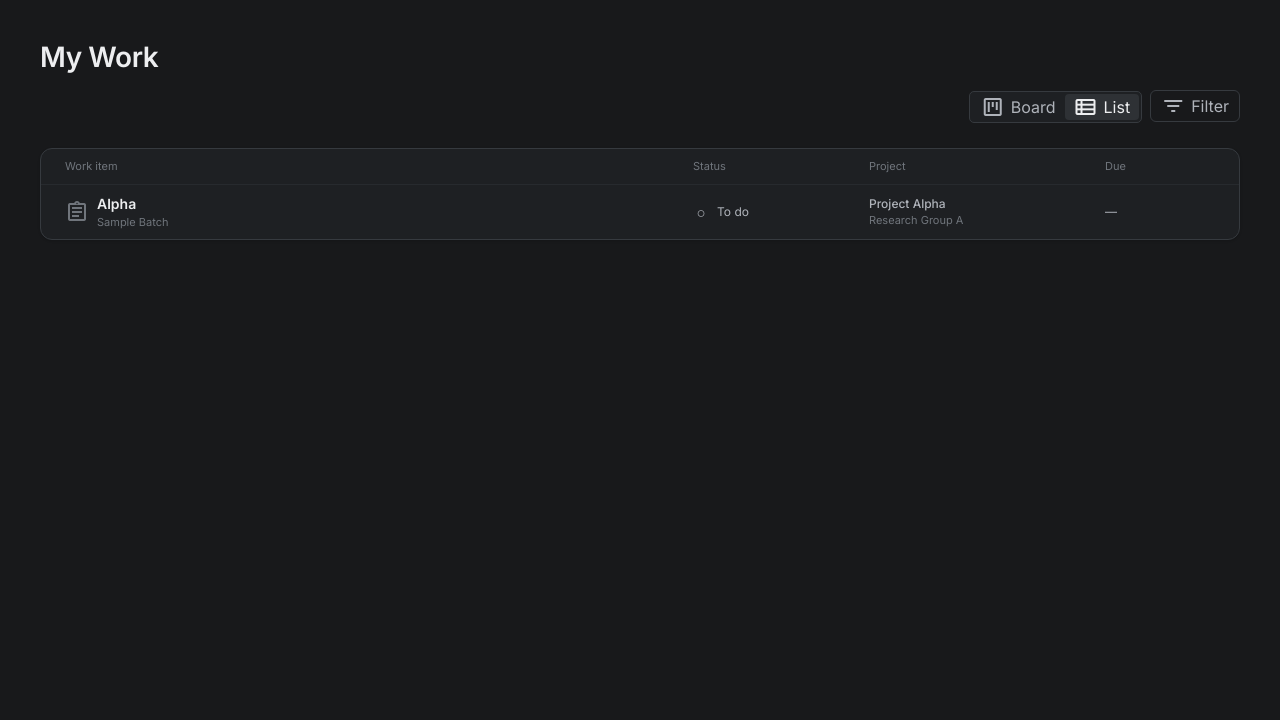
Test case: My Work realtime — persisted preferences › keeps a locally chosen (unsaved) view mode across a realtime refetch
The width and height of the screenshot is (1280, 720).
expect the button with aria-label "Open Alpha" is shown: met, box [41,185,1239,239]
What coordinates should you click on to do the following:
click the button "Board"
I would click on:
 (1018, 107)
Its box is [972,94,1065,120].
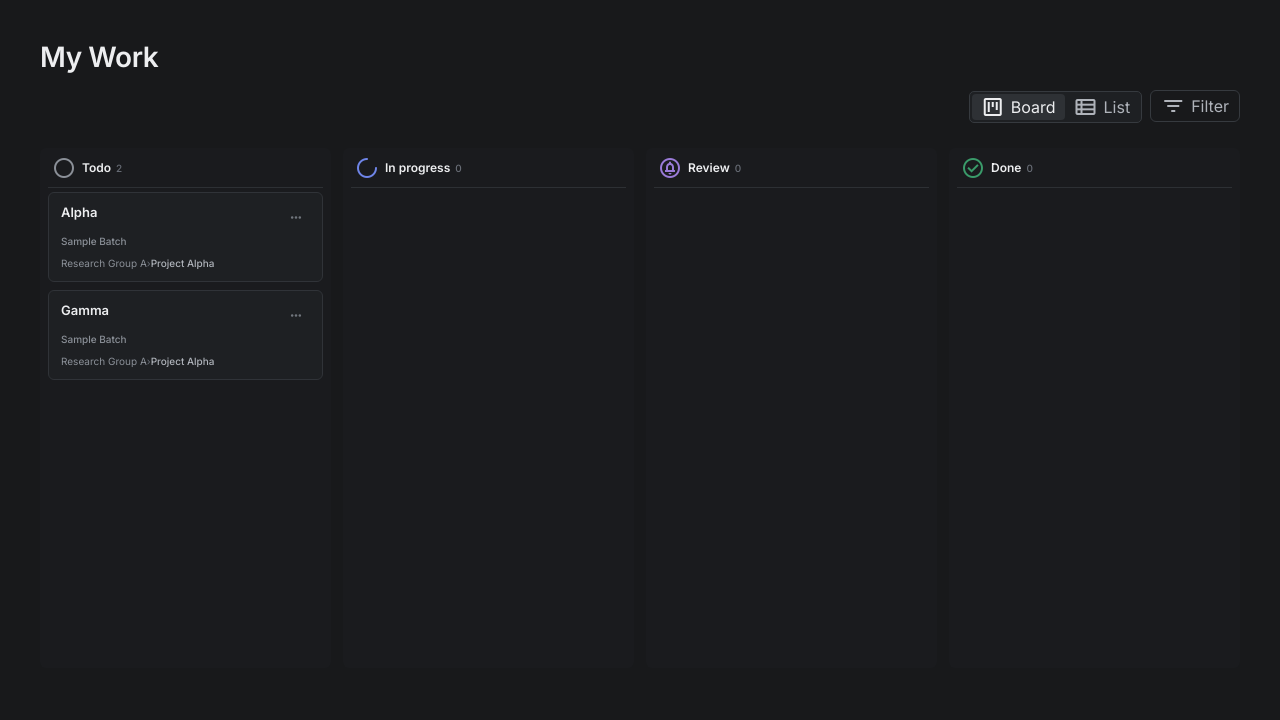
expect the button with aria-label "Open Gamma" is shown: met, box [48,290,323,380]
expect the element that starts with "Todo" is shown: met, box [40,148,331,668]
expect the button with aria-label "Open Alpha" is shown: met, box [48,192,323,282]
